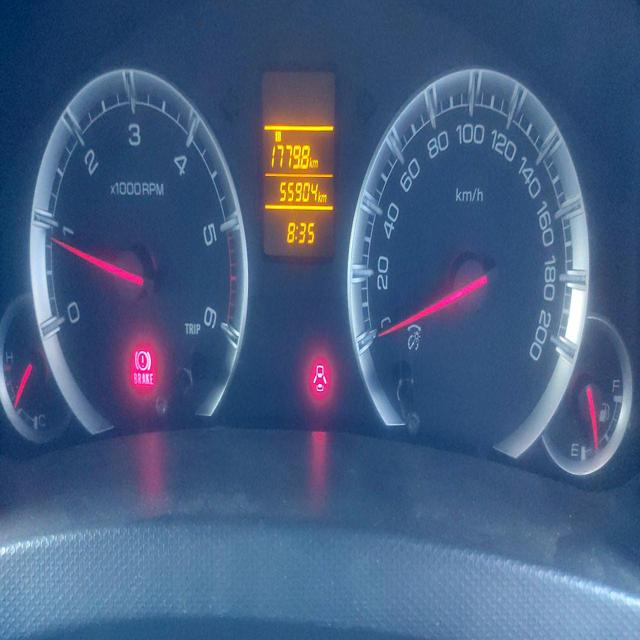odometer: (276, 176, 320, 205)
